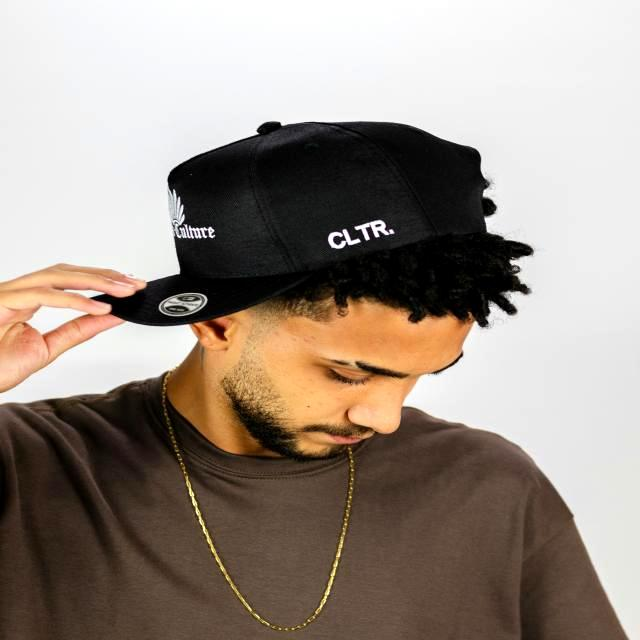no_hard_hat: (110, 122, 486, 325)
person: (0, 118, 629, 640)
